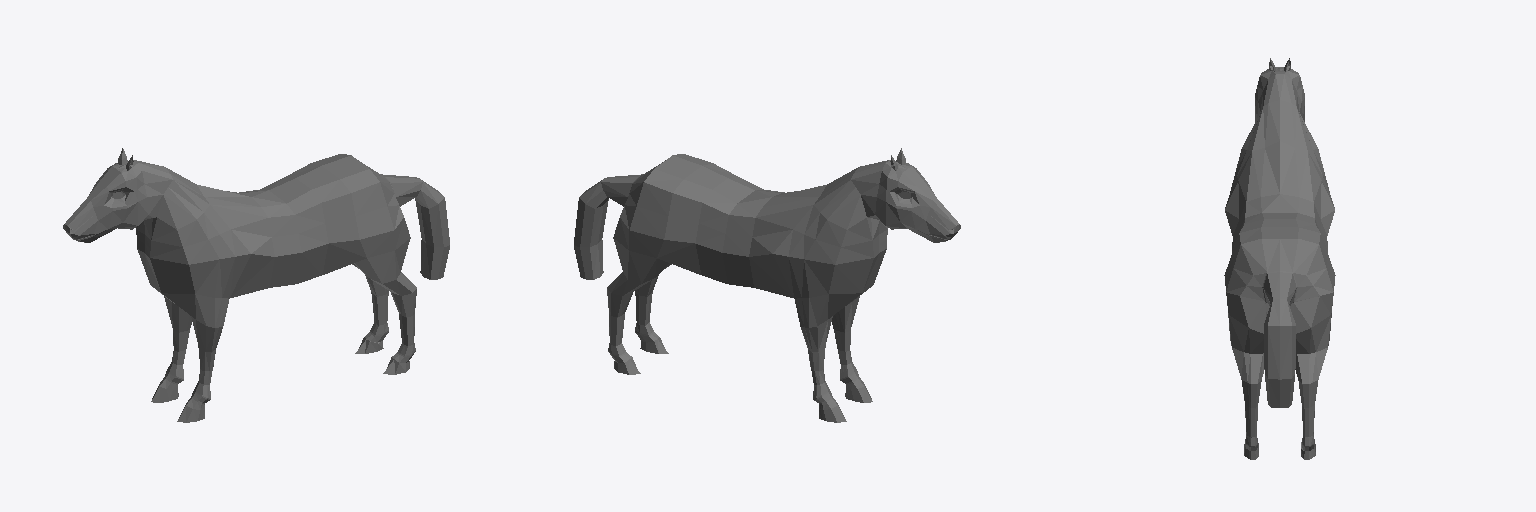
Rendered from caballo2.obj.
3 renders of one model, left to right at view 1: azimuth 30°, elevation 25°; view 2: azimuth 150°, elevation 25°; view 3: azimuth 270°, elevation 25°, orthographic.
Visible parts, largest first — view 1: Hourse_body; view 2: Hourse_body; view 3: Hourse_body.
Part boxes in pixels (left/top/right/bottom): Hourse_body: left=63, top=148, right=449, bottom=422; Hourse_body: left=574, top=148, right=960, bottom=422; Hourse_body: left=1224, top=58, right=1335, bottom=459.
Bounding box in the file's own units: 6.16 × 4.21 × 1.56.